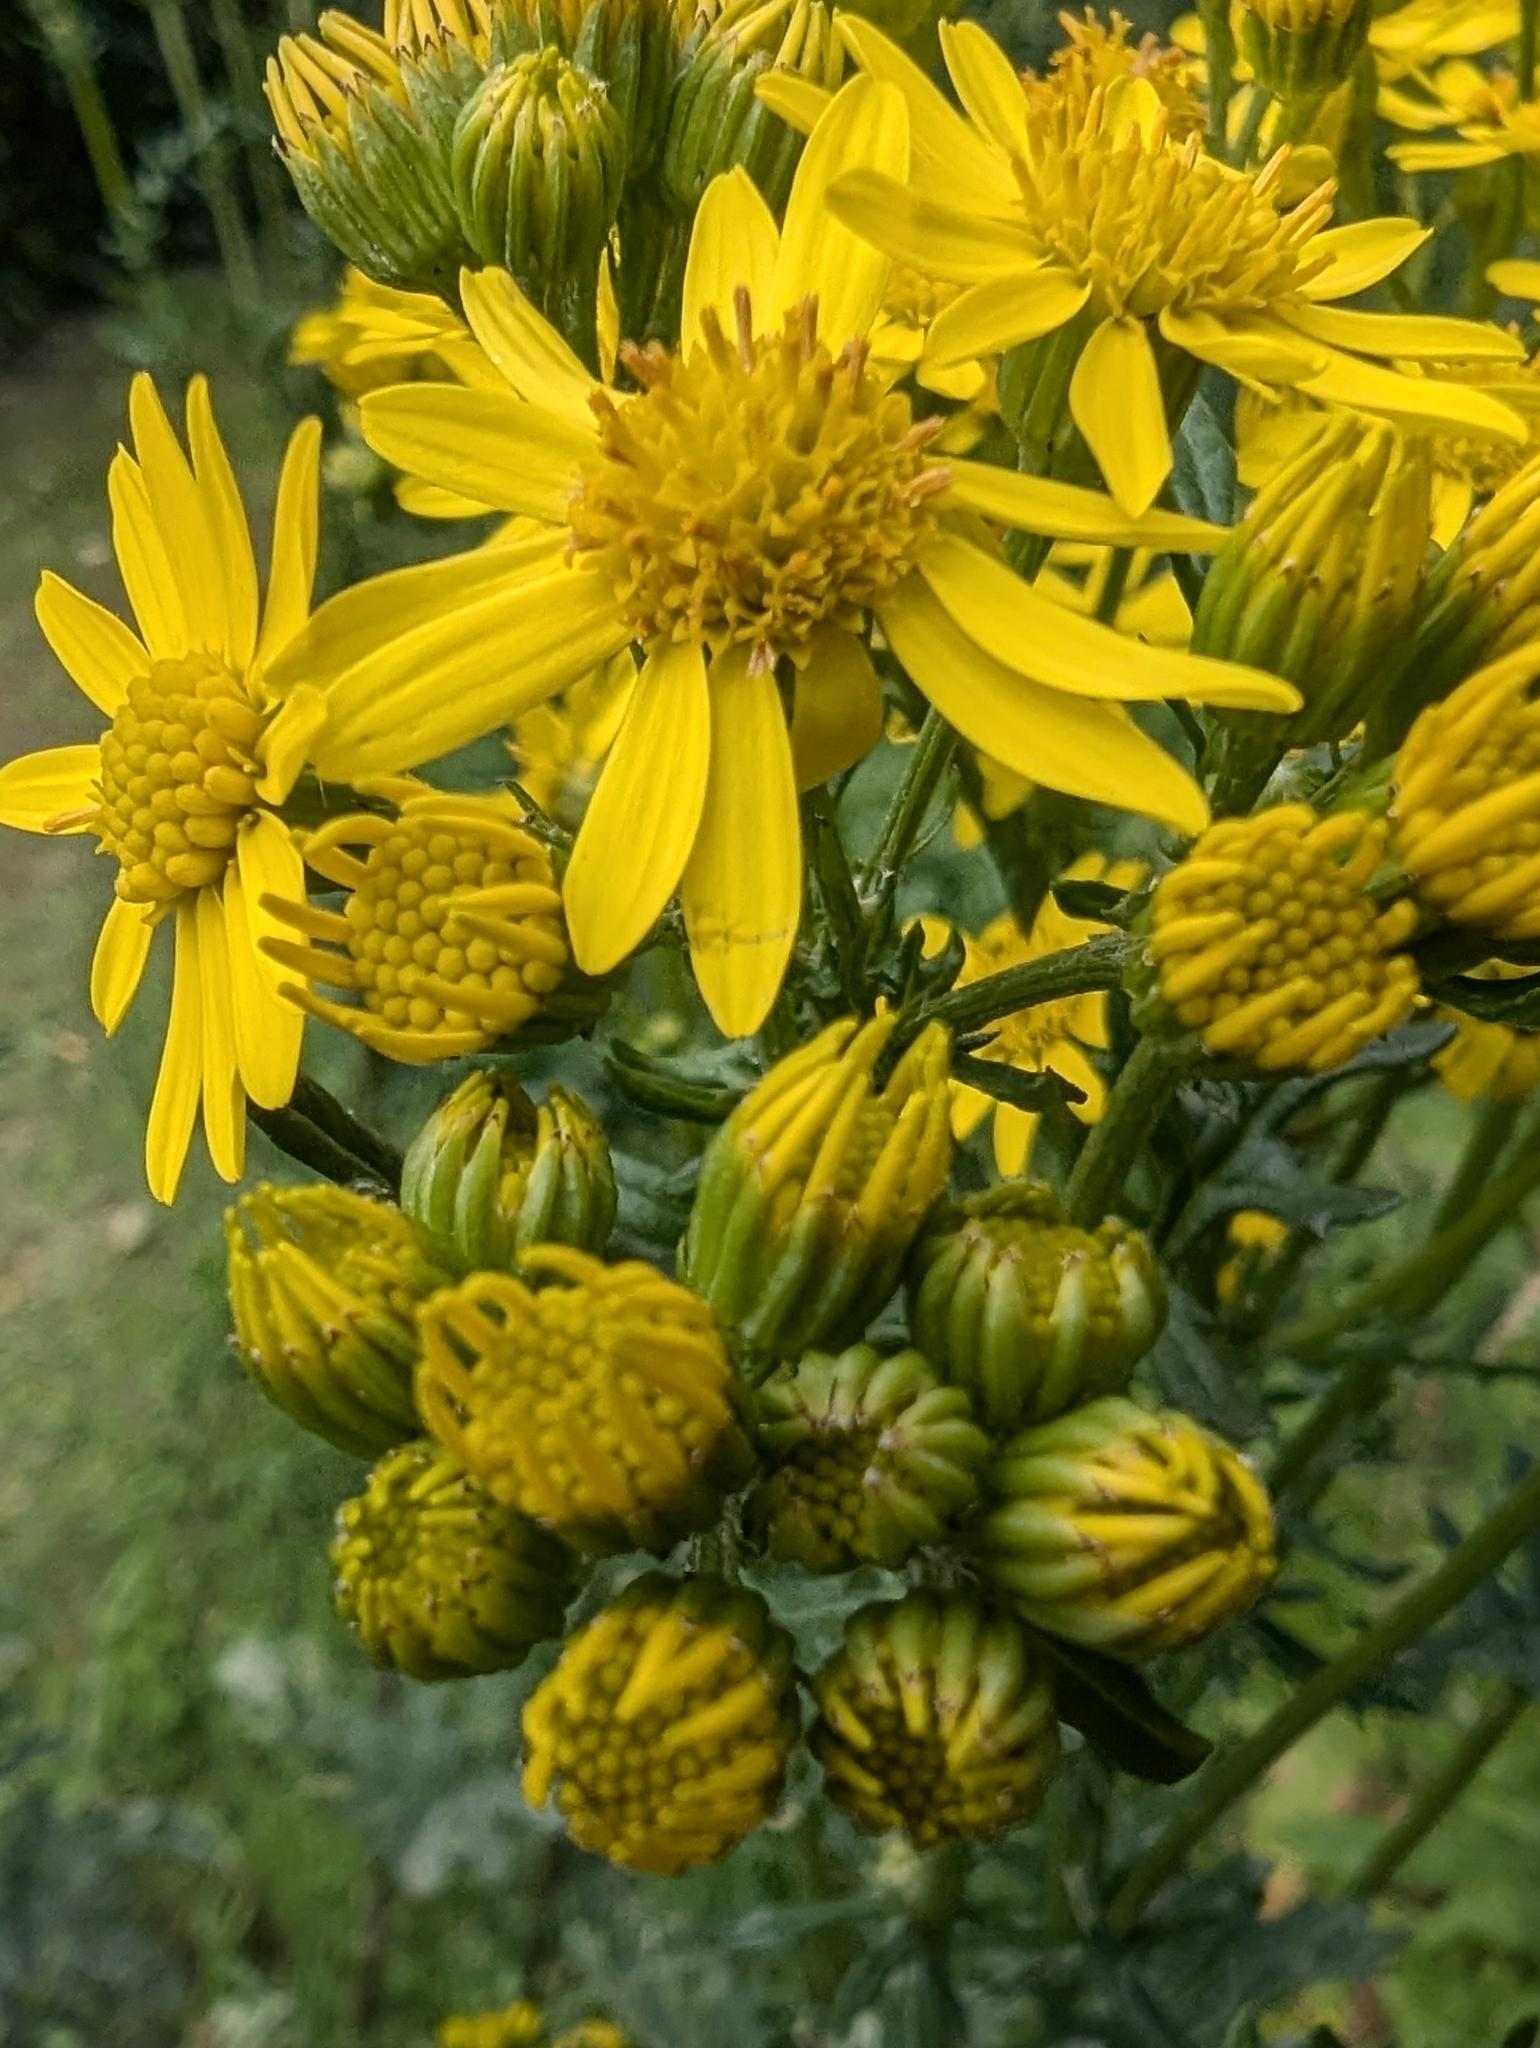Jacobaea vulgaris: (0, 0, 1540, 1983)
